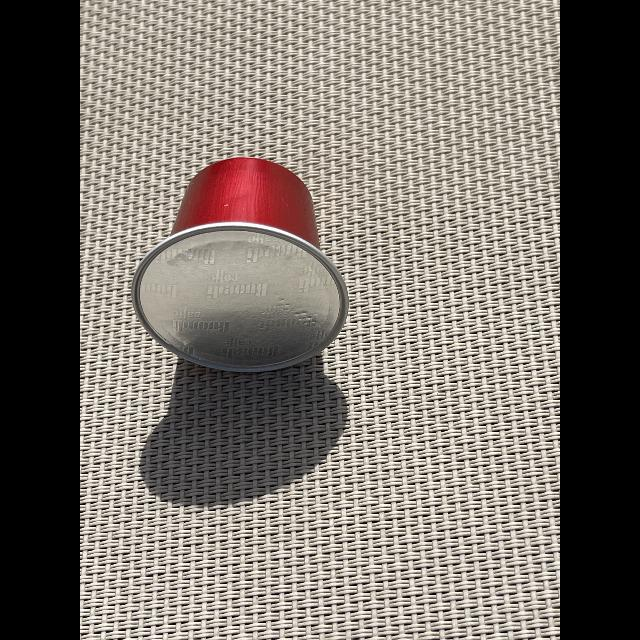intact_capsule: (123, 144, 360, 396)
